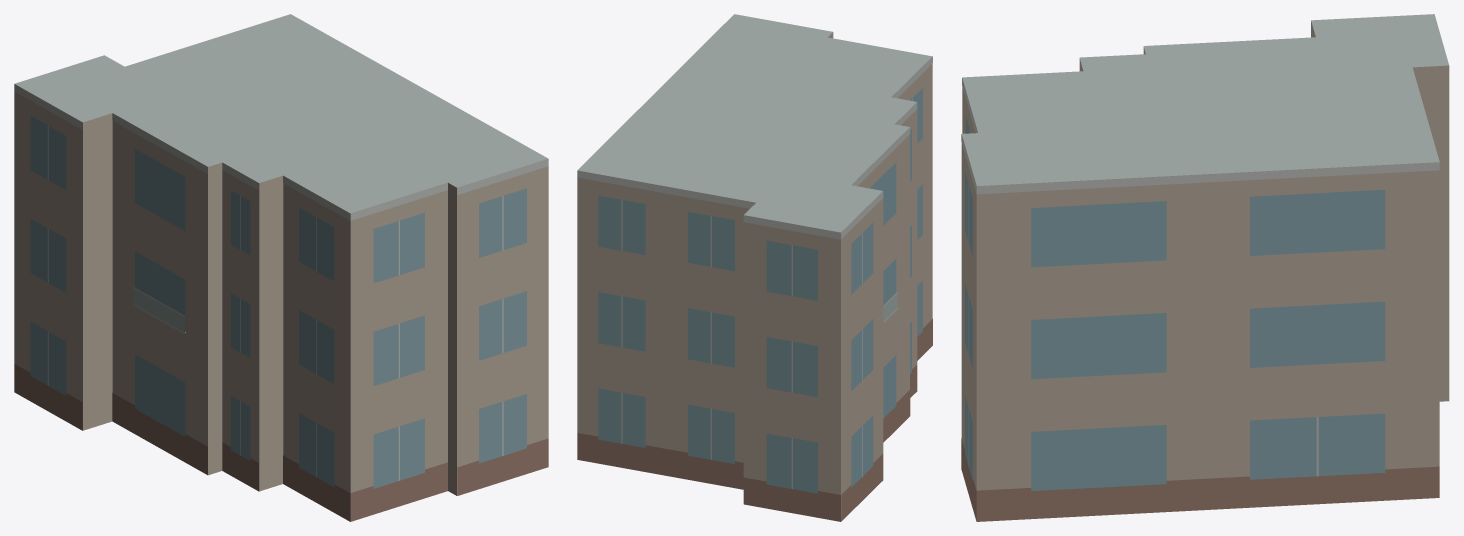
The model's file is survey-upis-32503679.glb.
3 renders of one model, left to right at view 1: azimuth 30°, elevation 25°; view 2: azimuth 150°, elevation 25°; view 3: azimuth 270°, elevation 25°, orthographic. The views are drawn at different scales.
Visible parts, largest first — view 1: survey-upis-32503679.tmp; view 2: survey-upis-32503679.tmp; view 3: survey-upis-32503679.tmp.
Part boxes in pixels (bbox=[...]): survey-upis-32503679.tmp: bbox=[14, 14, 548, 521]; survey-upis-32503679.tmp: bbox=[577, 14, 932, 521]; survey-upis-32503679.tmp: bbox=[961, 14, 1449, 521].
Bounding box in the file's own units: 10.96 × 9.96 × 13.12.
